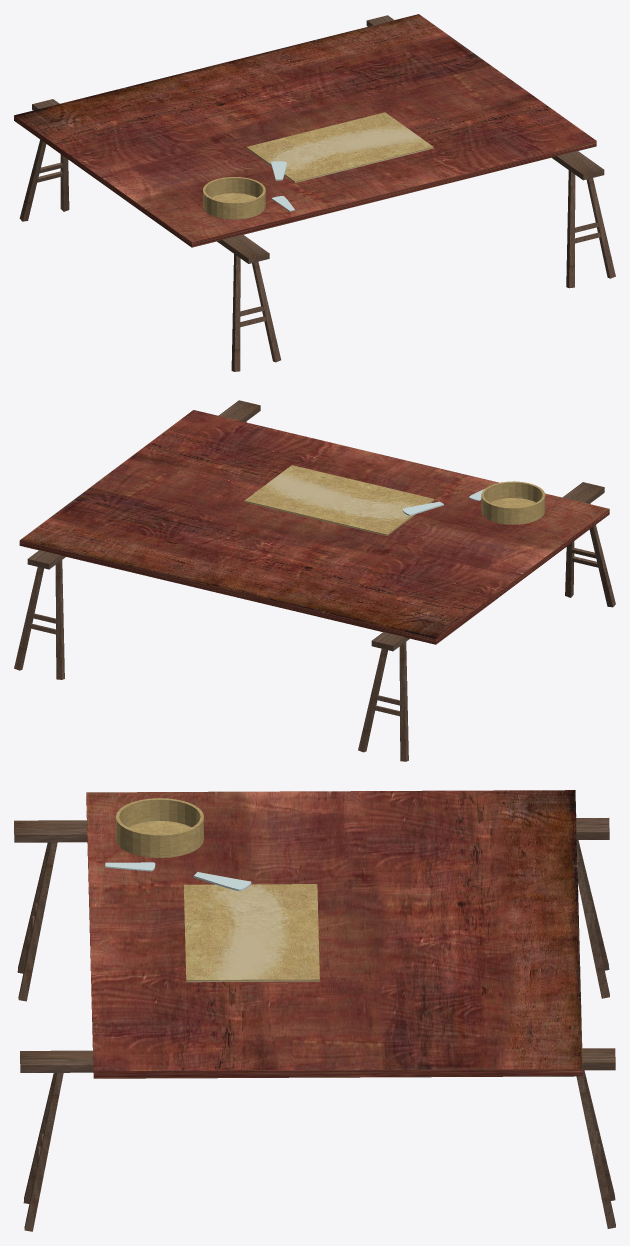
Rendered from 杂物摊02.fbx.
The picture shows the model from 3 angles, top to bottom: view 1: azimuth 30°, elevation 25°; view 2: azimuth 150°, elevation 25°; view 3: azimuth 270°, elevation 25°; orthographic projection. The views are drawn at different scales.
Parts seen in each view (by area): view 1: qingmo_obj_371 [10486124], qingmo_obj_376 [10486148], qingmo_obj_374 [10486073], qingmo_obj_375 [10486136]; view 2: qingmo_obj_371 [10486124], qingmo_obj_376 [10486148], qingmo_obj_374 [10486073], qingmo_obj_375 [10486136]; view 3: qingmo_obj_371 [10486124], qingmo_obj_374 [10486073], qingmo_obj_376 [10486148], qingmo_obj_375 [10486136], qingmo_obj_373 [10486106].
Boxes of the visible parts, x1,y1,x2,y2 form: qingmo_obj_371 [10486124]: (14, 14, 596, 247); qingmo_obj_376 [10486148]: (19, 15, 615, 371); qingmo_obj_374 [10486073]: (246, 112, 433, 182); qingmo_obj_375 [10486136]: (203, 177, 265, 219); qingmo_obj_371 [10486124]: (19, 410, 609, 644); qingmo_obj_376 [10486148]: (14, 400, 615, 761); qingmo_obj_374 [10486073]: (244, 465, 434, 535); qingmo_obj_375 [10486136]: (481, 481, 545, 524); qingmo_obj_371 [10486124]: (86, 790, 582, 1078); qingmo_obj_374 [10486073]: (183, 884, 319, 982); qingmo_obj_376 [10486148]: (14, 818, 615, 1231); qingmo_obj_375 [10486136]: (115, 798, 203, 857); qingmo_obj_373 [10486106]: (105, 862, 251, 891).
Bounding box in the file's own units: 19.87 × 17.99 × 6.2.
Materials: 5 (4 with a texture image).
